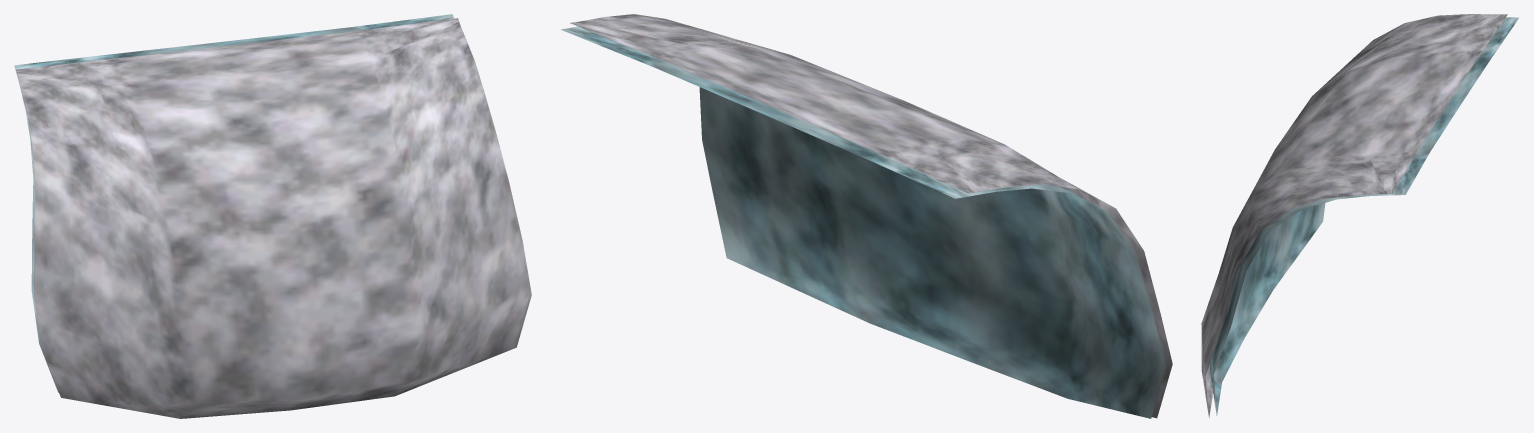
File: CB_NEWPLAYSURFACE_CB_WATERFALLS05.fbx
3 renders of one model, left to right at view 1: azimuth 30°, elevation 25°; view 2: azimuth 150°, elevation 25°; view 3: azimuth 270°, elevation 25°, orthographic. The views are drawn at different scales.
Parts seen in each view (by area): view 1: CB_NEWPLAYSURFACE_CB_WATERFALLS05; view 2: CB_NEWPLAYSURFACE_CB_WATERFALLS05; view 3: CB_NEWPLAYSURFACE_CB_WATERFALLS05.
Boxes of the visible parts, x1,y1,x2,y2 form: CB_NEWPLAYSURFACE_CB_WATERFALLS05: (14, 14, 531, 418); CB_NEWPLAYSURFACE_CB_WATERFALLS05: (561, 14, 1172, 418); CB_NEWPLAYSURFACE_CB_WATERFALLS05: (1201, 14, 1518, 418).
Bounding box in the file's own units: 95436 × 54747 × 59856.
Materials: 2 (2 with a texture image).
